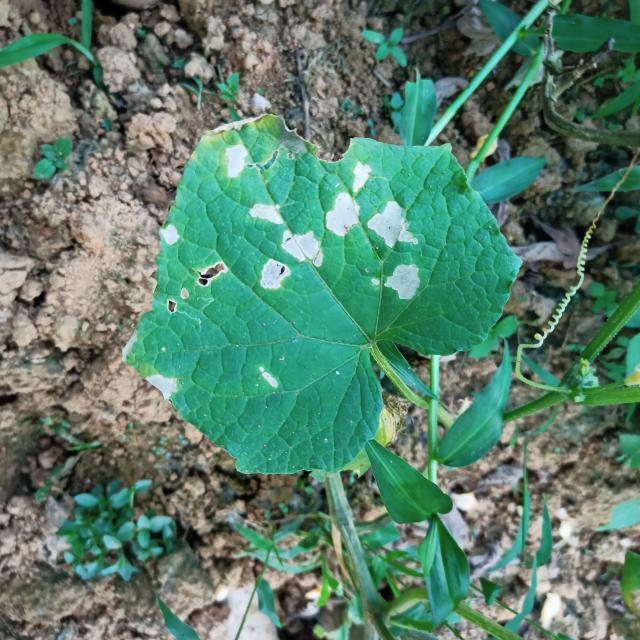disease_cucumber: (260, 230, 324, 290), (324, 162, 372, 238), (166, 261, 227, 315), (365, 200, 418, 251), (367, 262, 420, 301), (223, 143, 248, 180), (249, 202, 283, 228), (146, 373, 177, 399), (257, 366, 279, 390), (159, 223, 180, 246)
